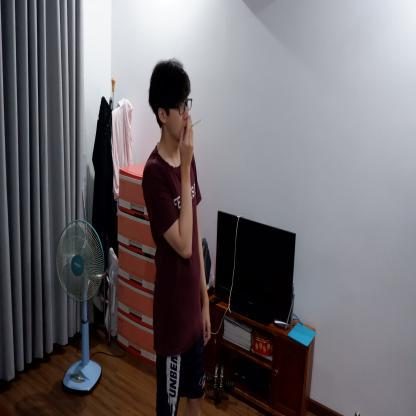cigarette: (190, 118, 202, 128)
person: (140, 59, 212, 415)
